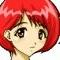NoHuman: (0, 0, 55, 58)
